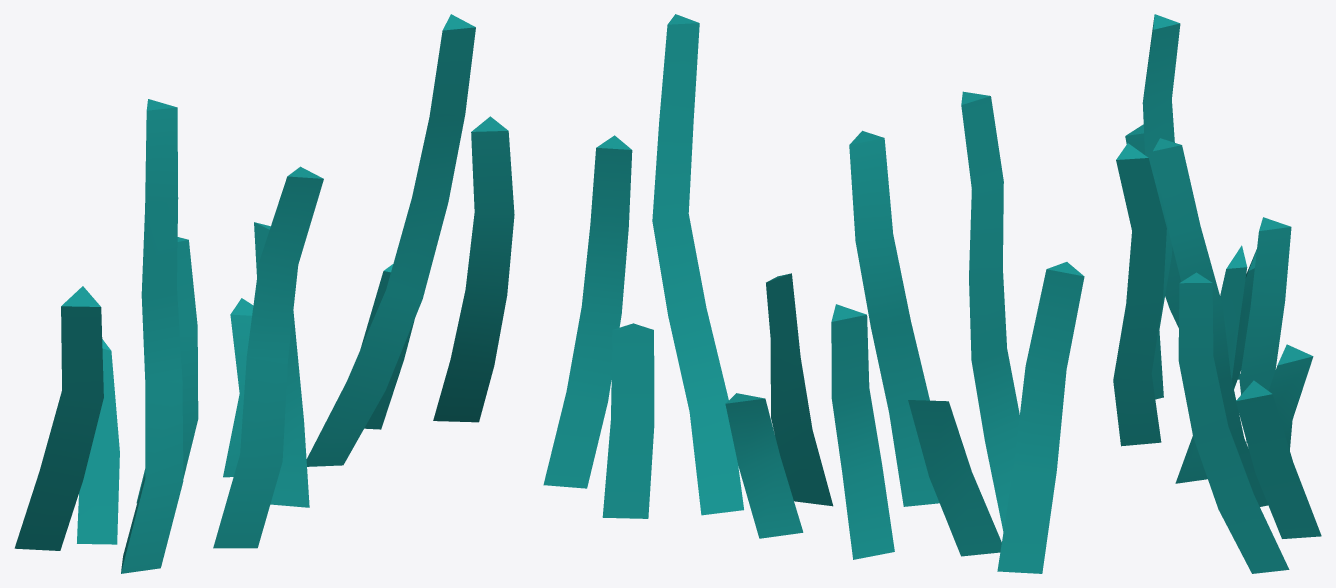
File: coral_anemone_B_mini.fbx
The picture shows the model from 3 angles, left to right: view 1: azimuth 30°, elevation 25°; view 2: azimuth 150°, elevation 25°; view 3: azimuth 270°, elevation 25°; orthographic projection. The views are drawn at different scales.
Parts seen in each view (by area): view 1: coral_anemone_B_mini_A, coral_anemone_B_mini_B, coral_anemone_B_mini_C, coral_anemone_B_mini_D, coral_anemone_B_mini_E, coral_anemone_B_mini_I, coral_anemone_B_mini_H, coral_anemone_B_mini_F, coral_anemone_B_mini_J, coral_anemone_B_mini_G; view 2: coral_anemone_B_mini_A, coral_anemone_B_mini_D, coral_anemone_B_mini_B, coral_anemone_B_mini_C, coral_anemone_B_mini_E, coral_anemone_B_mini_F, coral_anemone_B_mini_G, coral_anemone_B_mini_H, coral_anemone_B_mini_I, coral_anemone_B_mini_J; view 3: coral_anemone_B_mini_D, coral_anemone_B_mini_C, coral_anemone_B_mini_A, coral_anemone_B_mini_G, coral_anemone_B_mini_F, coral_anemone_B_mini_B, coral_anemone_B_mini_H, coral_anemone_B_mini_J, coral_anemone_B_mini_E, coral_anemone_B_mini_I.
Part boxes in pixels (x1,y1,x2,y2): coral_anemone_B_mini_A: (306, 14, 475, 466); coral_anemone_B_mini_B: (121, 99, 183, 573); coral_anemone_B_mini_C: (213, 166, 323, 548); coral_anemone_B_mini_D: (433, 116, 514, 422); coral_anemone_B_mini_E: (14, 286, 103, 550); coral_anemone_B_mini_I: (77, 339, 119, 544); coral_anemone_B_mini_H: (254, 222, 309, 507); coral_anemone_B_mini_F: (136, 237, 198, 503); coral_anemone_B_mini_J: (223, 298, 253, 477); coral_anemone_B_mini_G: (360, 264, 414, 429); coral_anemone_B_mini_A: (652, 14, 743, 515); coral_anemone_B_mini_D: (543, 135, 632, 488); coral_anemone_B_mini_B: (961, 91, 1019, 531); coral_anemone_B_mini_C: (849, 130, 939, 506); coral_anemone_B_mini_E: (997, 262, 1084, 573); coral_anemone_B_mini_F: (831, 304, 894, 559); coral_anemone_B_mini_G: (602, 323, 654, 518); coral_anemone_B_mini_H: (766, 273, 833, 506); coral_anemone_B_mini_I: (908, 400, 1001, 556); coral_anemone_B_mini_J: (725, 393, 803, 538); coral_anemone_B_mini_D: (1178, 272, 1289, 573); coral_anemone_B_mini_C: (1113, 143, 1166, 446); coral_anemone_B_mini_A: (1152, 138, 1267, 506); coral_anemone_B_mini_G: (1236, 380, 1321, 538); coral_anemone_B_mini_F: (1239, 217, 1291, 442); coral_anemone_B_mini_B: (1142, 14, 1180, 399); coral_anemone_B_mini_H: (1175, 245, 1247, 483); coral_anemone_B_mini_J: (1268, 344, 1313, 450); coral_anemone_B_mini_E: (1125, 124, 1240, 379); coral_anemone_B_mini_I: (1232, 249, 1256, 388).
Size of the model in its own units: 67.69 by 61.33 by 28.91.
